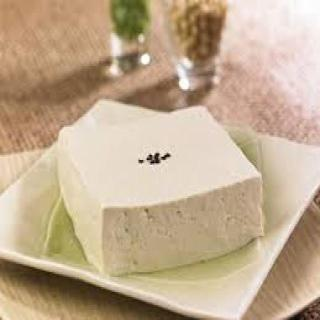Tahu: (43, 99, 283, 279)
